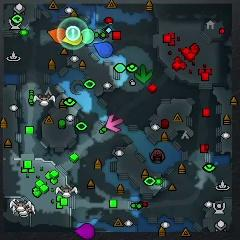Other: (66, 25, 80, 41)
p1: (94, 42, 113, 58)
p2: (80, 28, 94, 44)
p3: (74, 222, 95, 239)
p4: (62, 34, 83, 45)
p5: (48, 27, 66, 44)
x1: (106, 115, 123, 132)
x4: (134, 65, 152, 84)
